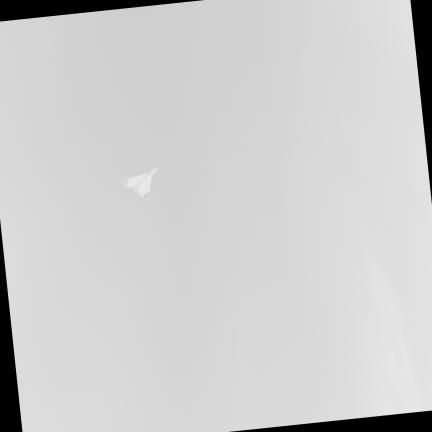Shahed: (122, 168, 156, 198)
